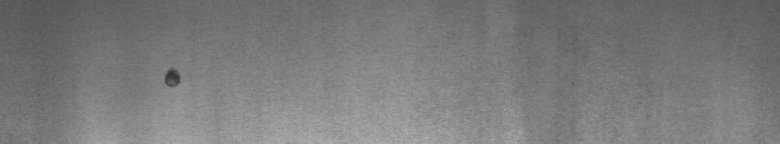fi: (160, 64, 187, 92)
